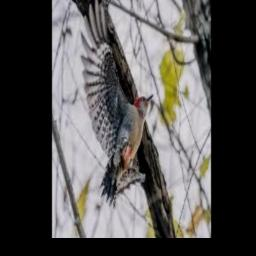Woodpecker: (81, 0, 153, 207)
